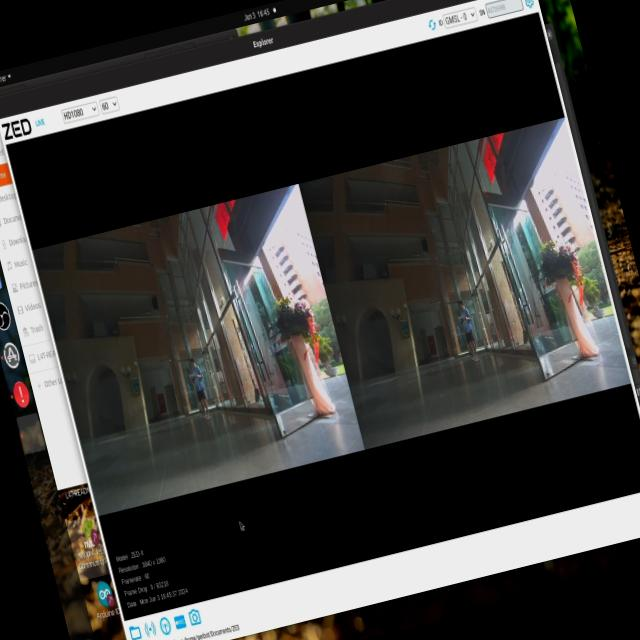blue: (457, 308, 467, 326), (190, 370, 198, 382)
